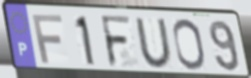1: (73, 14, 97, 67)
9: (207, 18, 242, 73)
F: (98, 14, 133, 70), (30, 13, 64, 65)
O: (171, 17, 208, 72)
U: (133, 17, 175, 70)
